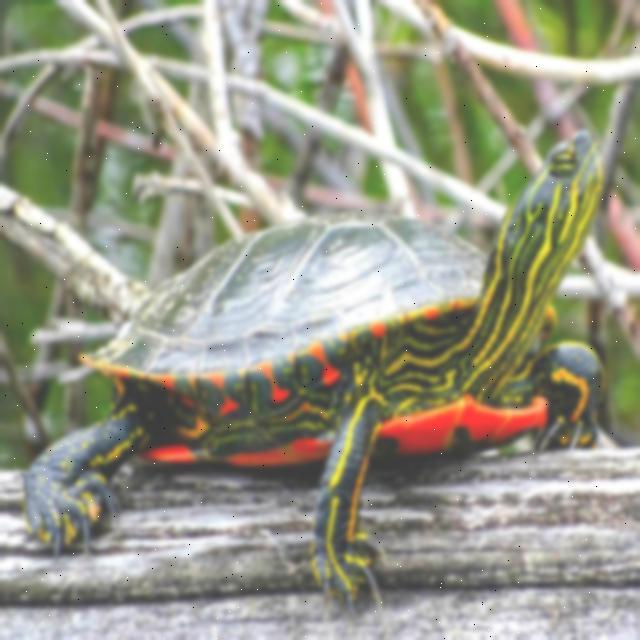tortoise: (38, 132, 610, 584)
